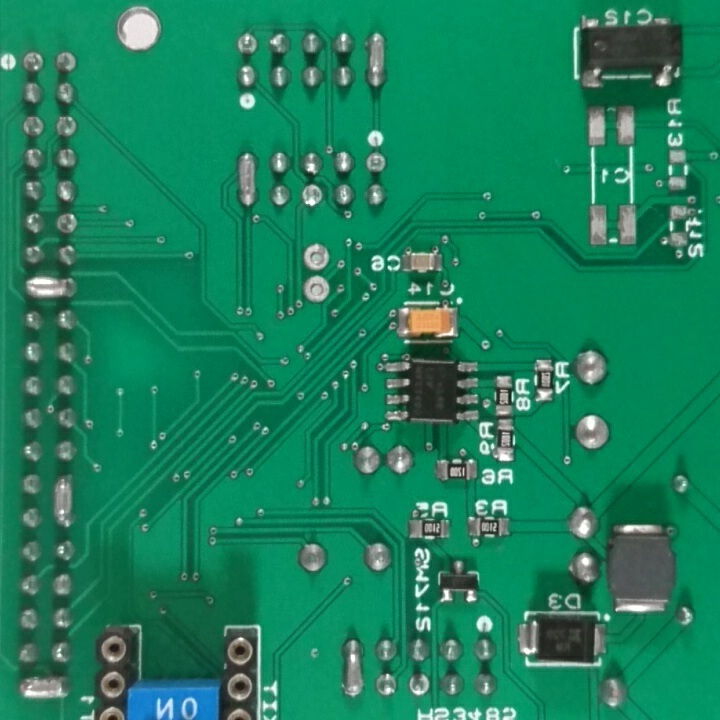F: (293, 240, 333, 275), (50, 205, 81, 238), (300, 275, 333, 306), (401, 672, 433, 700), (298, 180, 326, 210), (19, 47, 46, 78), (234, 29, 260, 59), (19, 115, 47, 140), (364, 150, 389, 176)
P: (231, 146, 264, 213), (359, 27, 390, 95), (18, 272, 80, 303), (50, 471, 80, 533), (340, 634, 366, 704), (13, 672, 76, 700)
